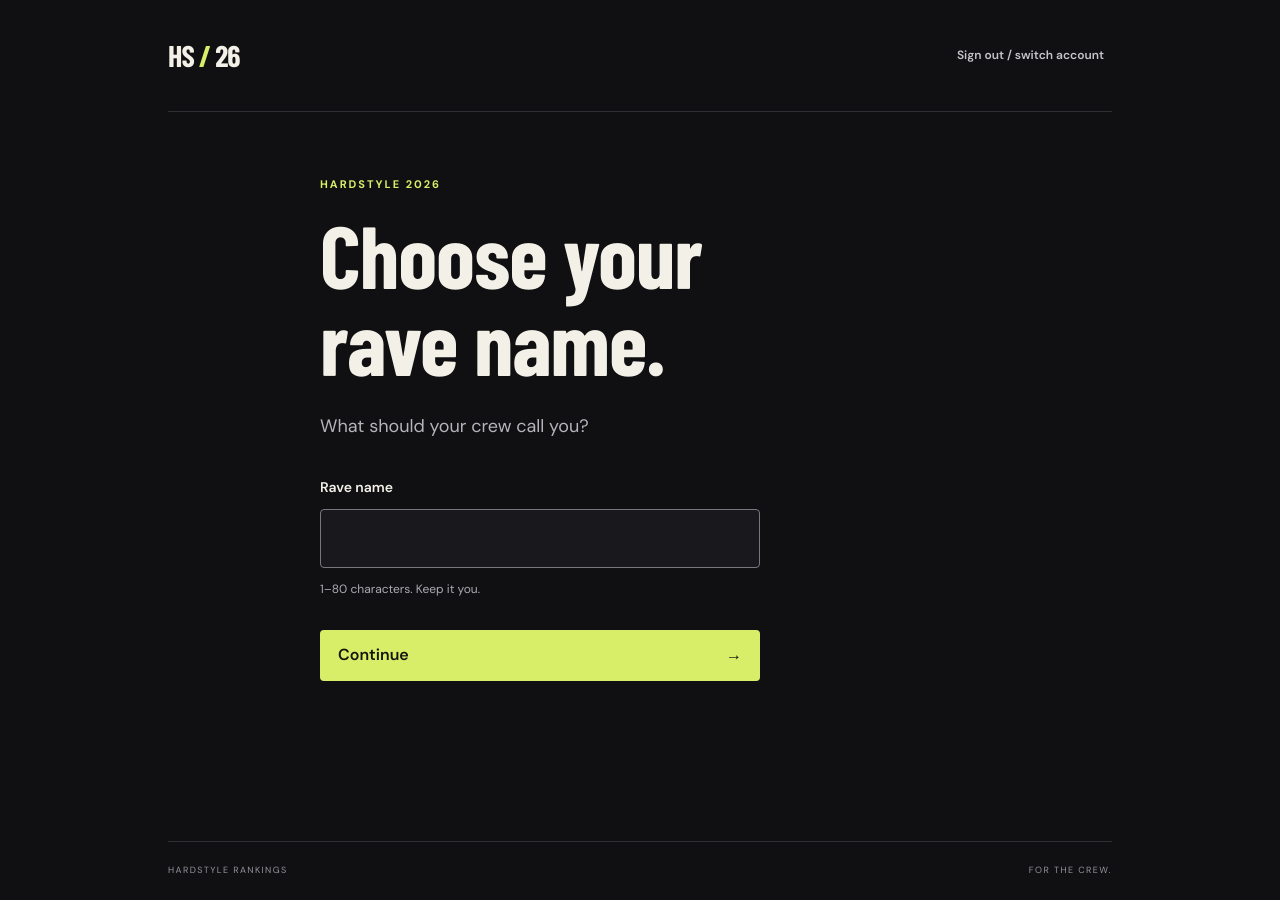
invitation onboarding › handles nickname/database rejection and lets the user retry
The image size is (1280, 900).
Type "Bar" into the field labelled "Rave name" at (540, 538), box [320,509,760,568]
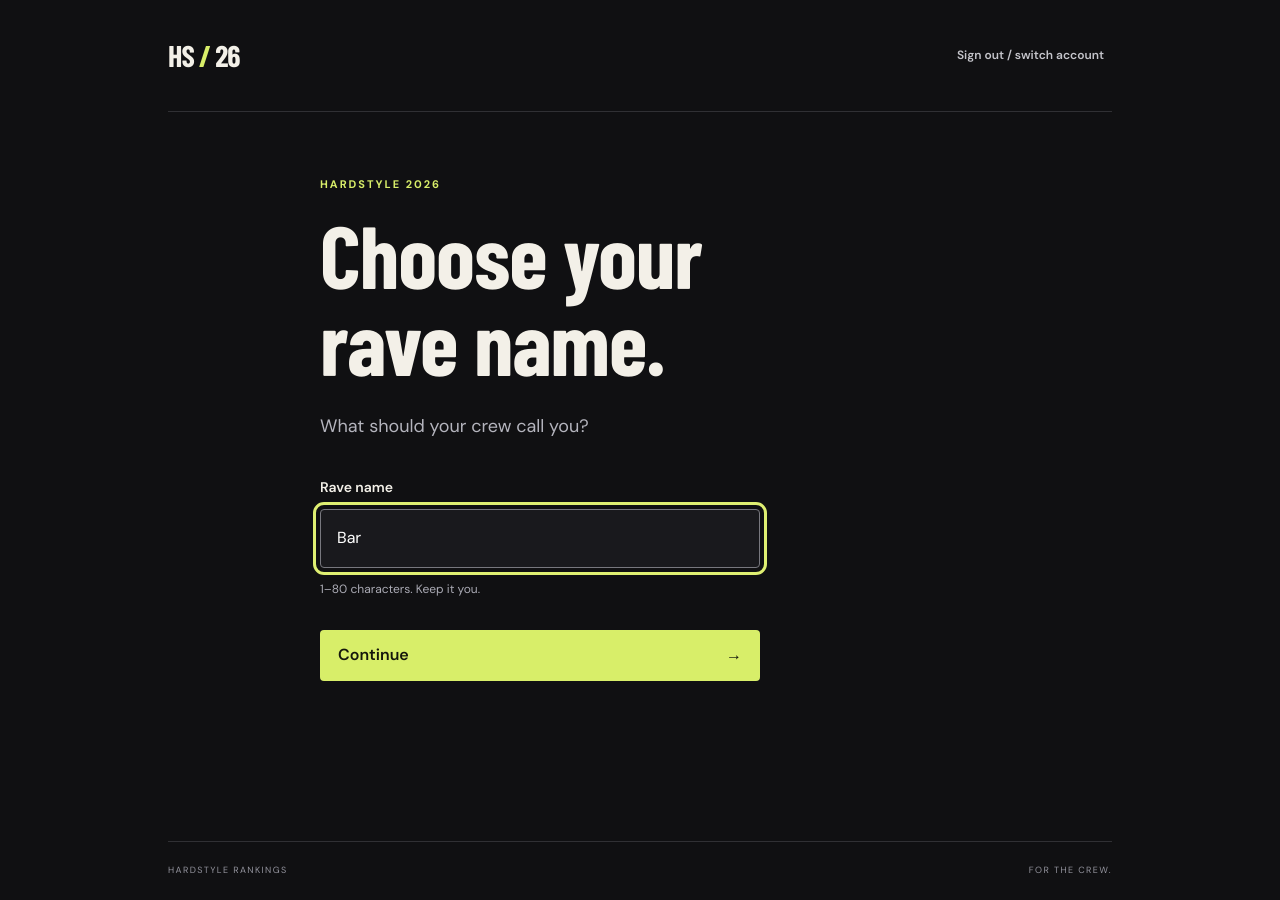
Click the button "Continue →" at (373, 655), box [320,630,760,681]
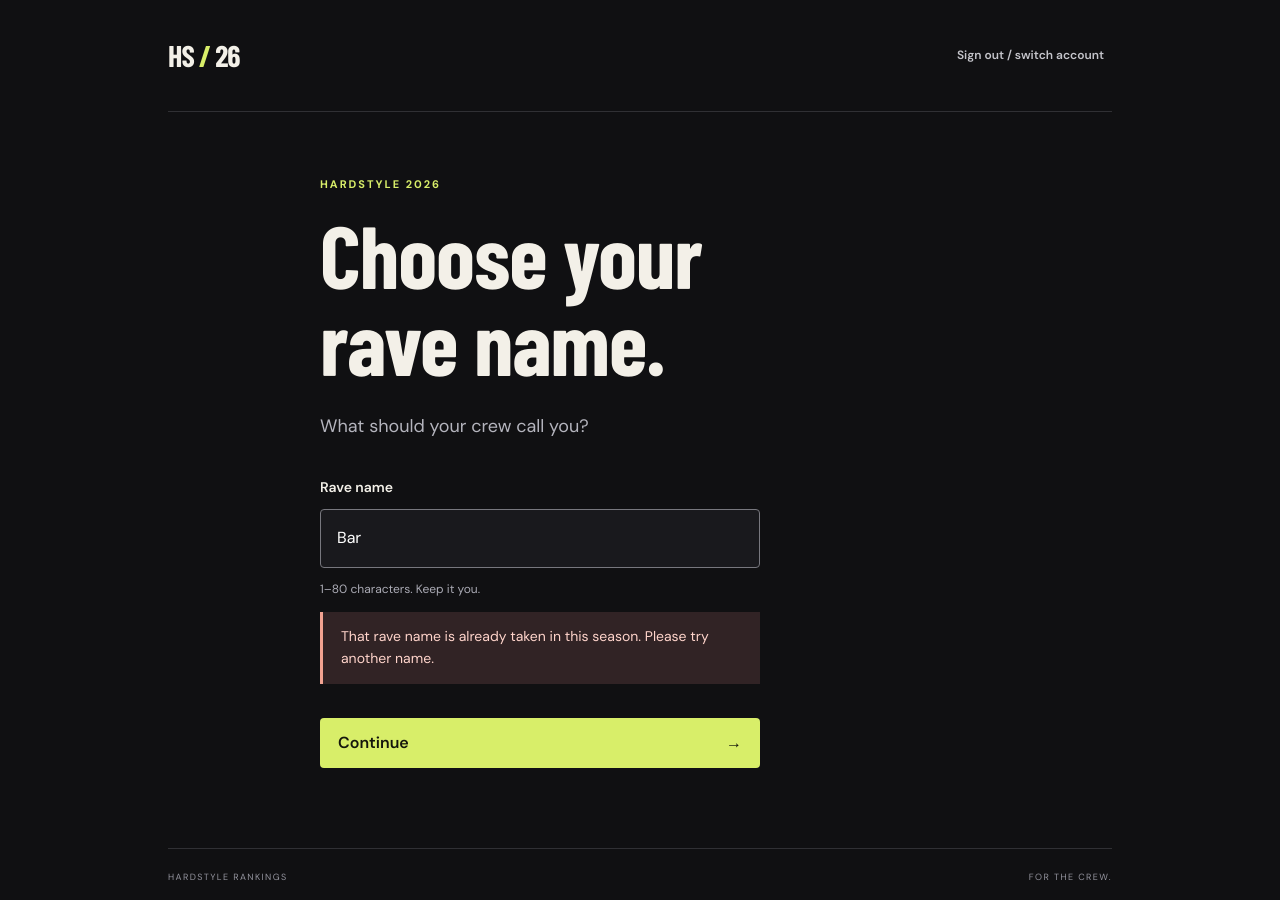
Check: the message shows "try another name", box [341,627,709,667]
Click the button "Continue →" at (373, 742), box [320,718,760,768]
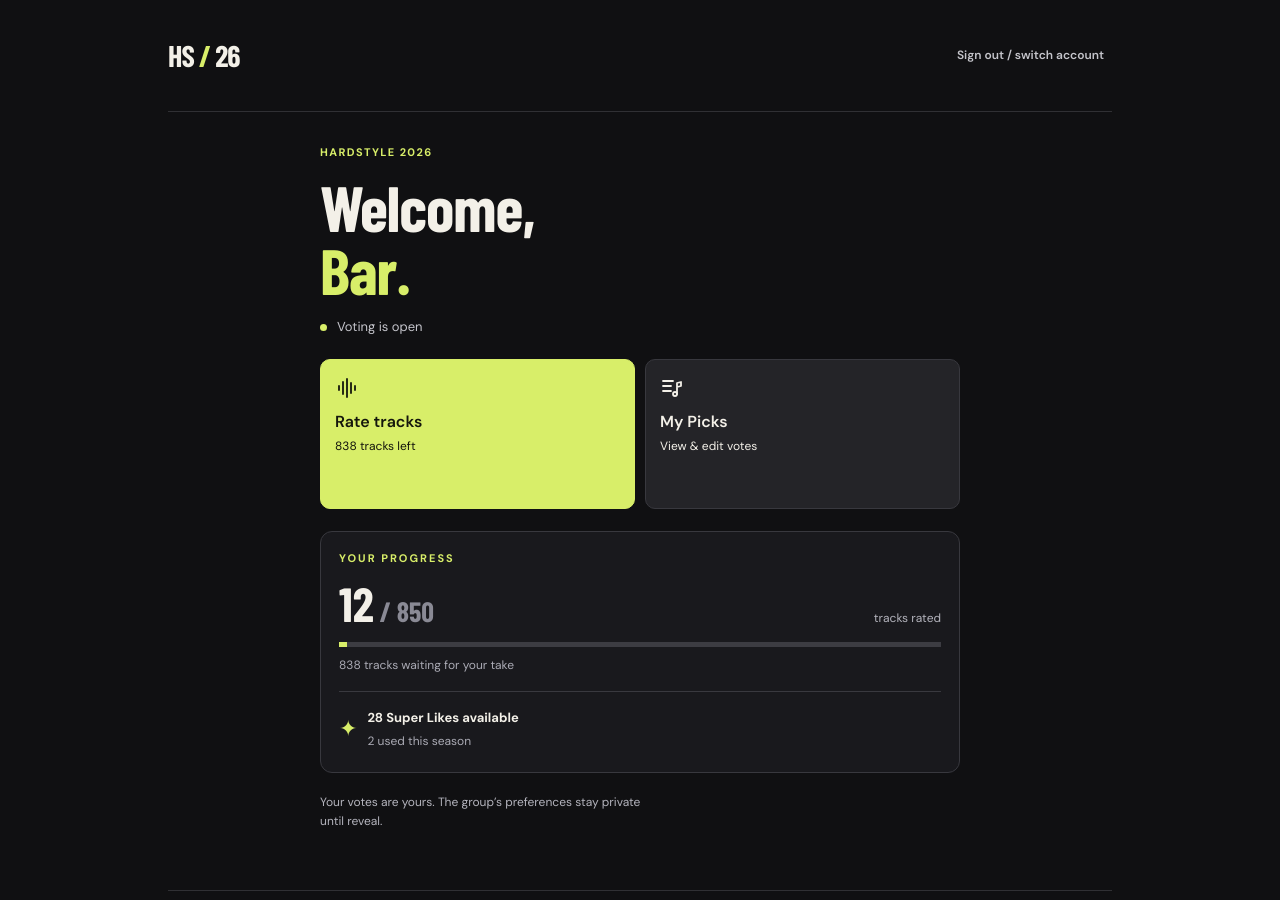
Check: the heading "Welcome, Bar." is shown, box [320,168,535,308]
